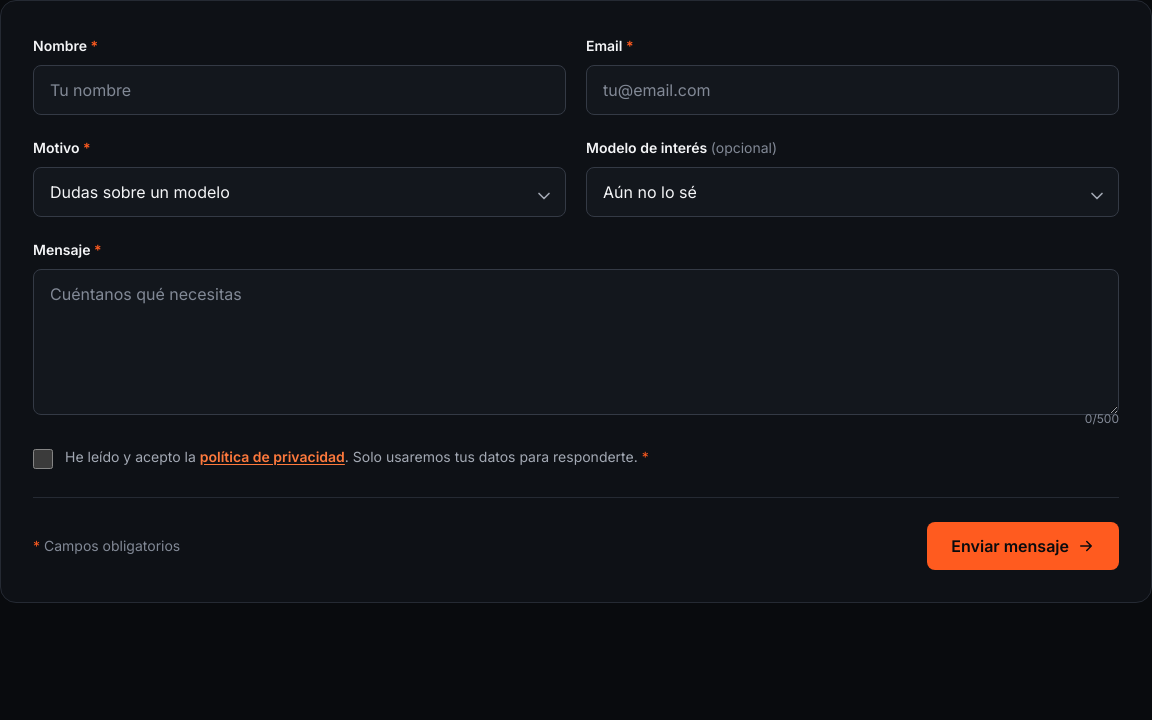
Scenario: ContactForm › envía los datos y muestra la confirmación
Type "Laura" into the field labelled "Nombre *".
click(300, 90); type("Laura")  # box [33, 65, 566, 115]
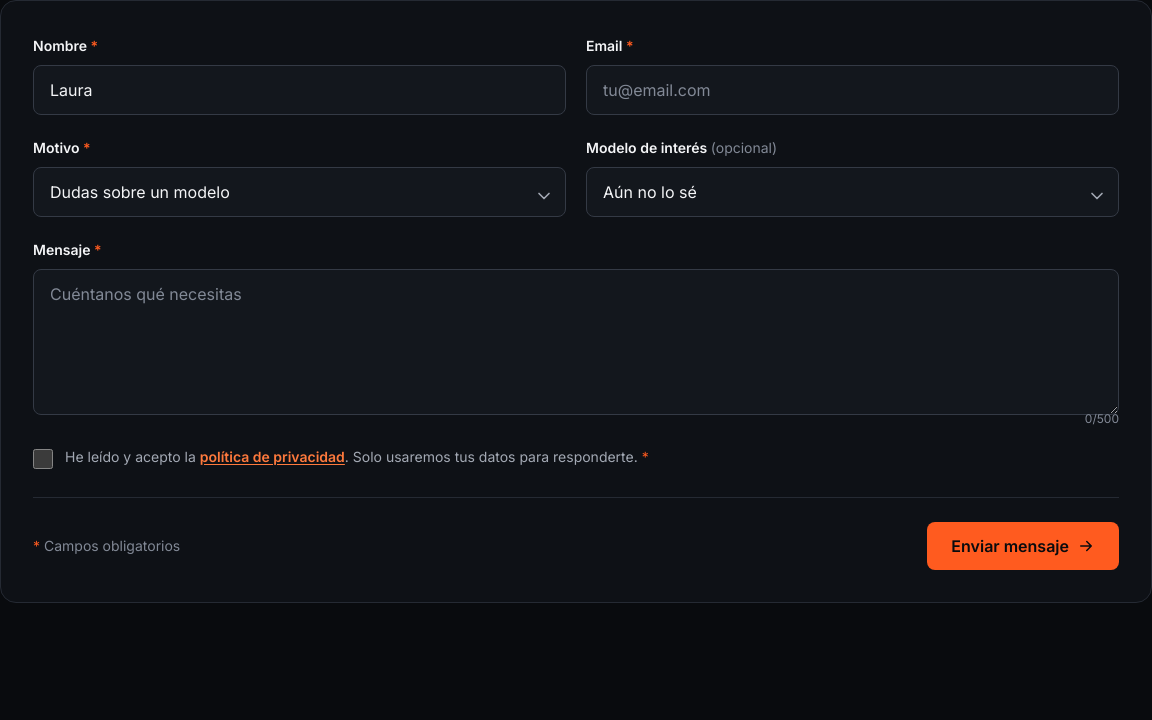
Type "laura@correo.com" into the field labelled "Email *".
click(852, 90); type("laura@correo.com")  # box [586, 65, 1119, 115]
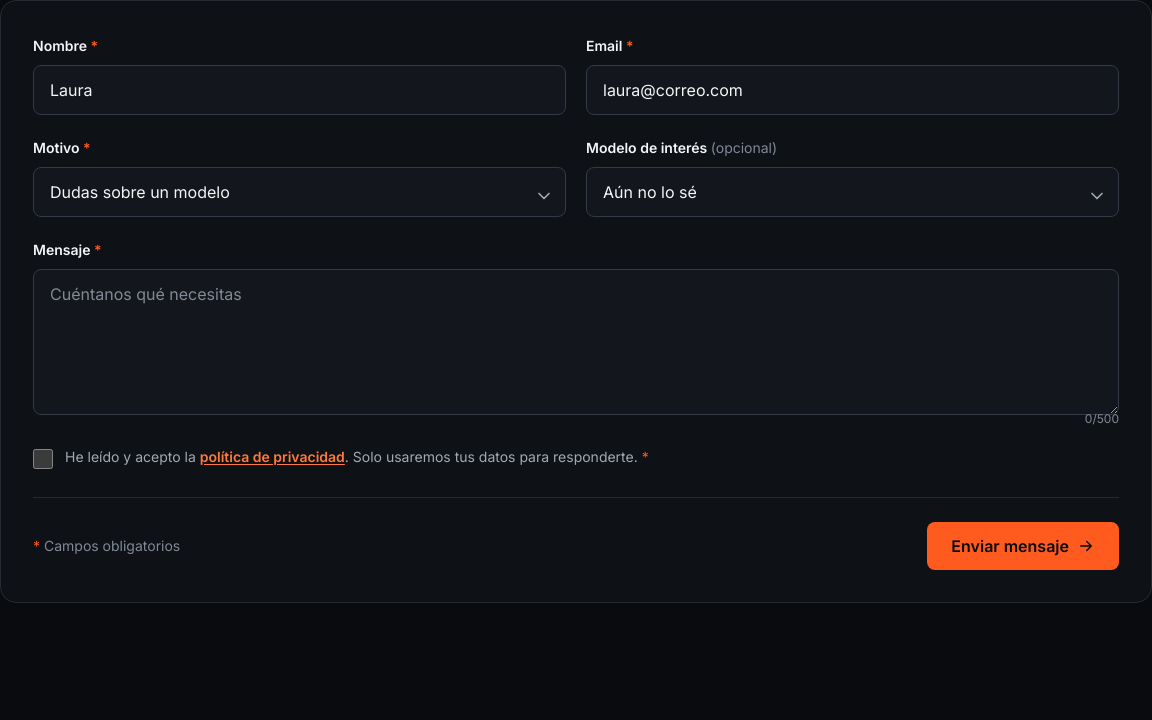
Type "Quiero información del Flash R1." into the text box labelled "Mensaje *".
click(576, 342); type("Quiero información del Flash R1.")  # box [33, 269, 1119, 415]
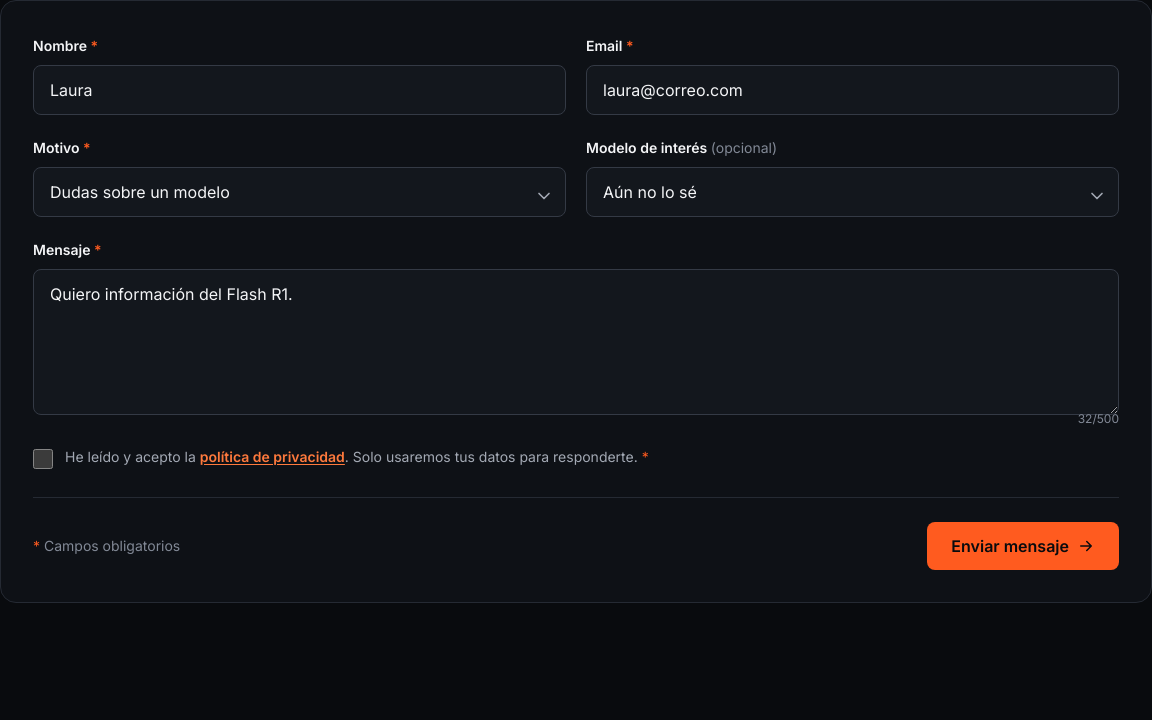
Click the checkbox.
click(43, 459)  # box [33, 449, 53, 469]
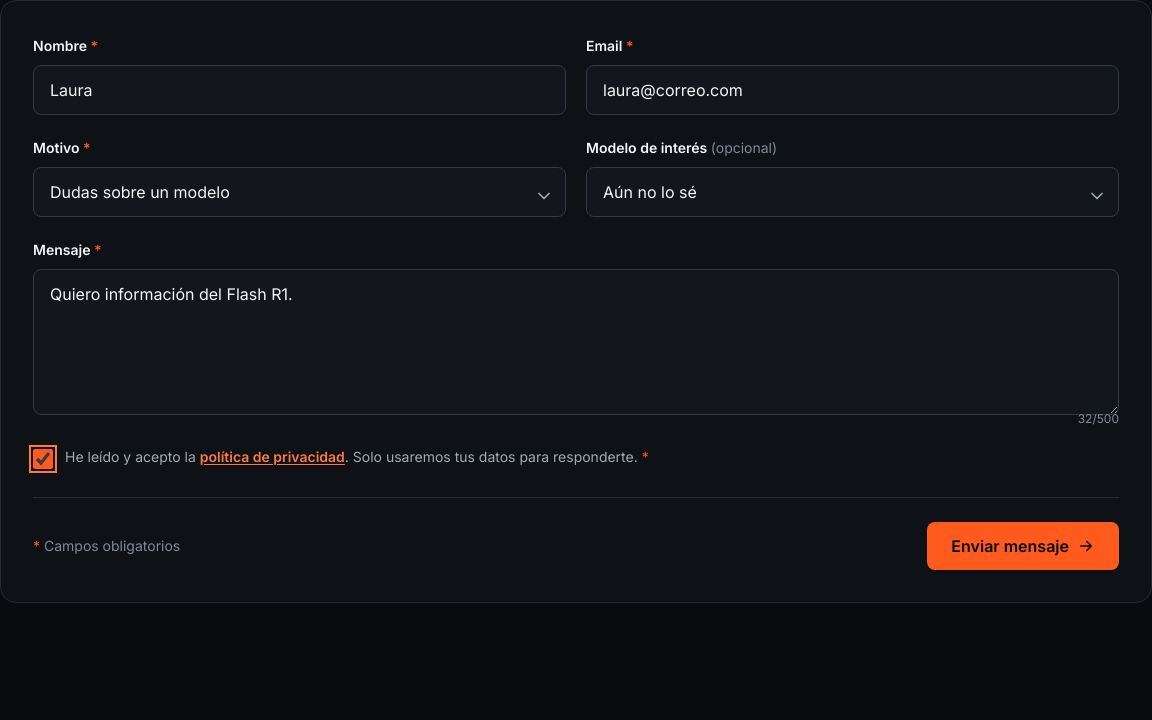
Click the button "Enviar mensaje".
click(1023, 546)  # box [927, 522, 1119, 570]
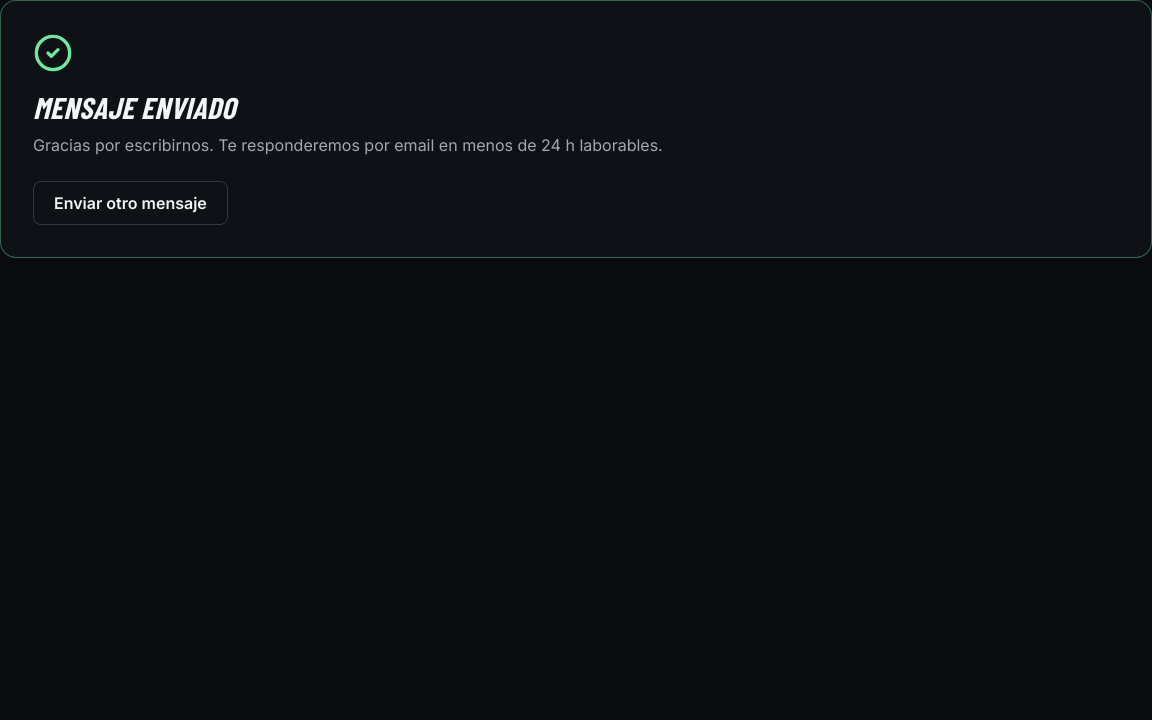
Now the message shows "Mensaje enviado", box [33, 89, 236, 125]
